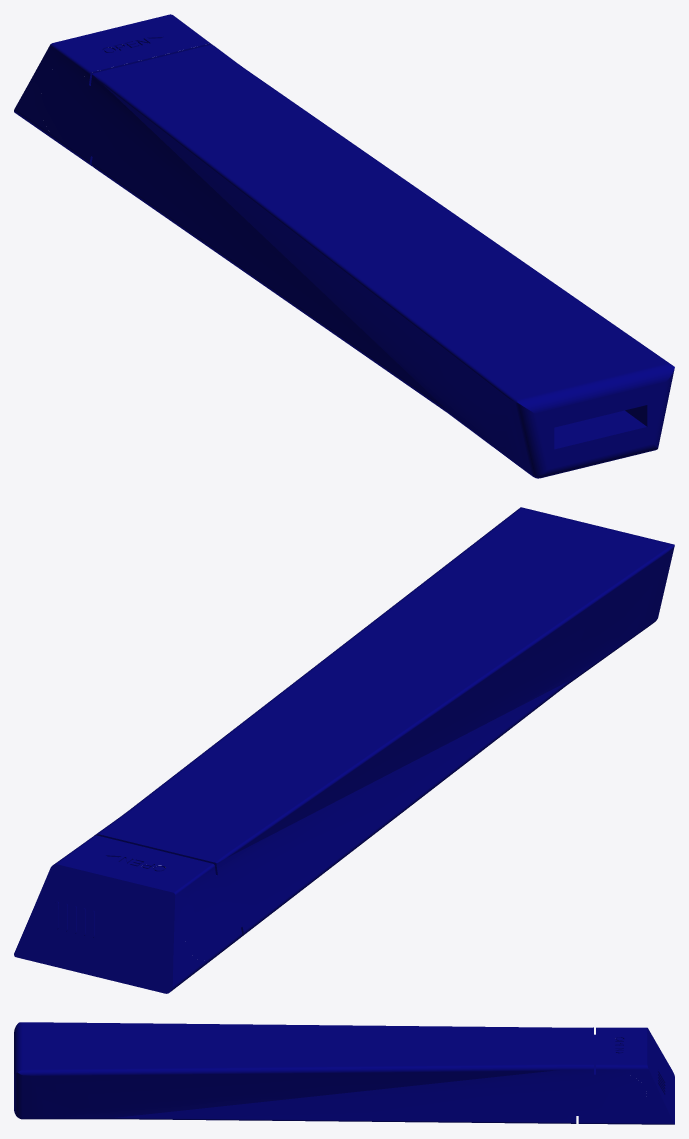
Rendered from Lead Case.glb.
3 views of the same model, one above another, from view 1: azimuth 30°, elevation 25°; view 2: azimuth 150°, elevation 25°; view 3: azimuth 270°, elevation 25° (orthographic). The views are drawn at different scales.
Size of the model in its own units: 0.0137 by 0.0068 by 0.0761.
